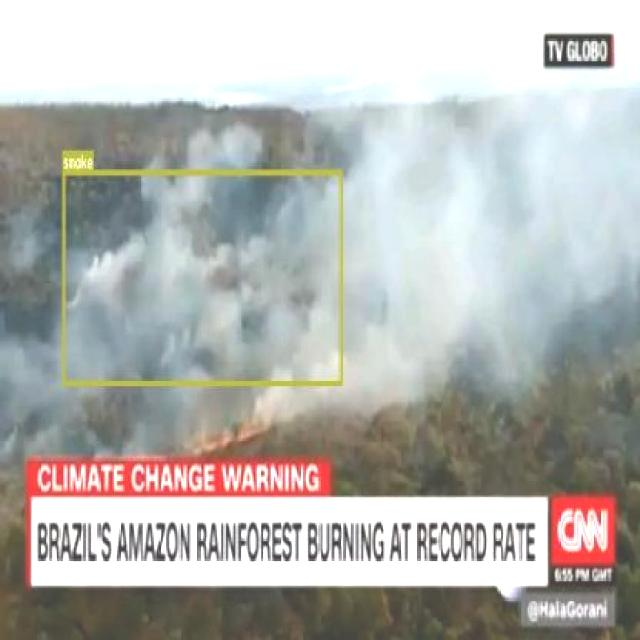smoke: (61, 168, 342, 386)
